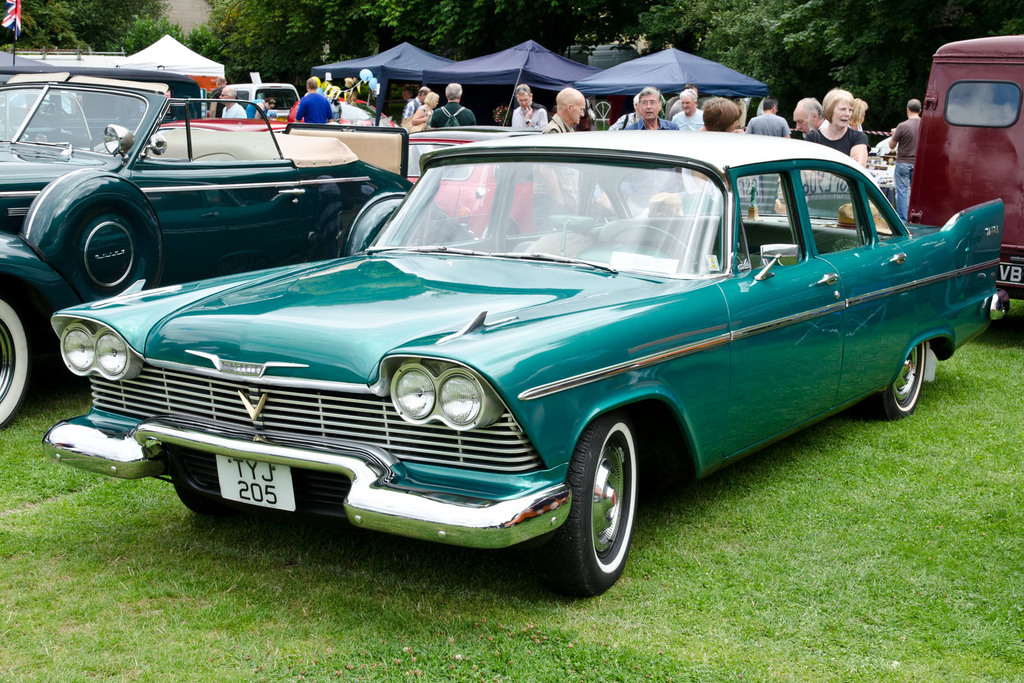Car: (42, 133, 1000, 588), (0, 58, 464, 432), (386, 123, 608, 245)
